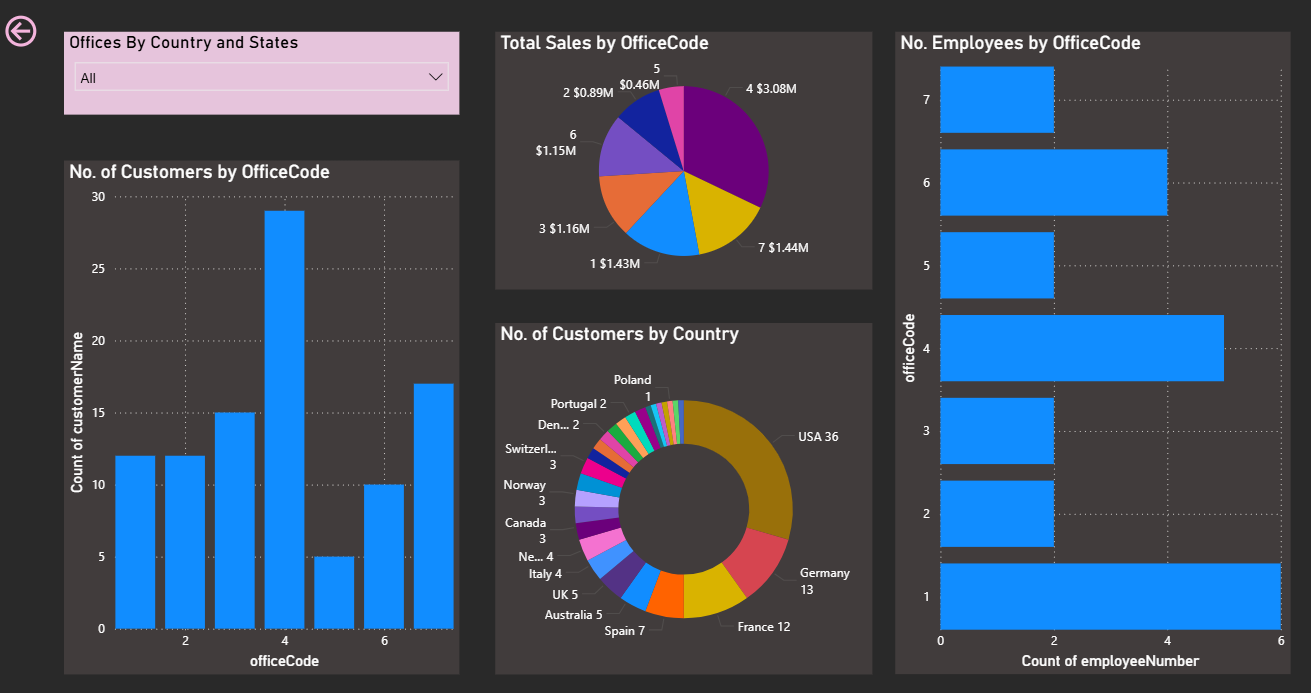

The dashboard page shown, as its layout file describes it:
{"tool":"powerbi","page":{"name":"Offices data","canvas":[1280,720],"ordinal":1},"visuals":[{"type":"clusteredBarChart","title":"No. Employees by OfficeCode","fields":{"Y":["CountNonNull(employees.employeeNumber)"],"Category":["offices.officeCode"]},"box":[874.7,37.4,381.2,620.1],"z":0},{"type":"slicer","title":"Offices By Country and States","fields":{"Values":["employees.offices.state","employees.offices.country"]},"box":[72.4,37.4,381.2,79.6],"z":1},{"type":"donutChart","title":"No. of Customers by Country","fields":{"Category":["customers.country"],"Y":["CountNonNull(customers.fullname)"]},"box":[488.6,318.5,364.3,339],"z":2},{"type":"clusteredColumnChart","title":"No. of Customers by OfficeCode","fields":{"Y":["CountNonNull(customers.customerName)"],"Category":["employees.officeCode"]},"box":[72.4,161.7,381.2,495.8],"z":4},{"type":"pieChart","title":"Total Sales by OfficeCode","fields":{"Category":["offices.officeCode"],"Y":["Sum(orderdetails.Sales)"]},"box":[488.6,37.4,364.3,248.5],"z":5},{"type":"actionButton","box":[10.9,16.9,47.1,39.8],"z":6}]}

Visuals, with their boxes on the page's 1280x720 design canvas (x1, y1, x2, y2). These are canvas units, not pixel positions in the 1311x693 screenshot, which may show the page scaled, cropped or inside an application window:
"No. Employees by OfficeCode" clusteredBarChart: x1=875, y1=37, x2=1256, y2=658
"Offices By Country and States" slicer: x1=72, y1=37, x2=454, y2=117
"No. of Customers by Country" donutChart: x1=489, y1=318, x2=853, y2=658
"No. of Customers by OfficeCode" clusteredColumnChart: x1=72, y1=162, x2=454, y2=658
"Total Sales by OfficeCode" pieChart: x1=489, y1=37, x2=853, y2=286
actionButton: x1=11, y1=17, x2=58, y2=57
